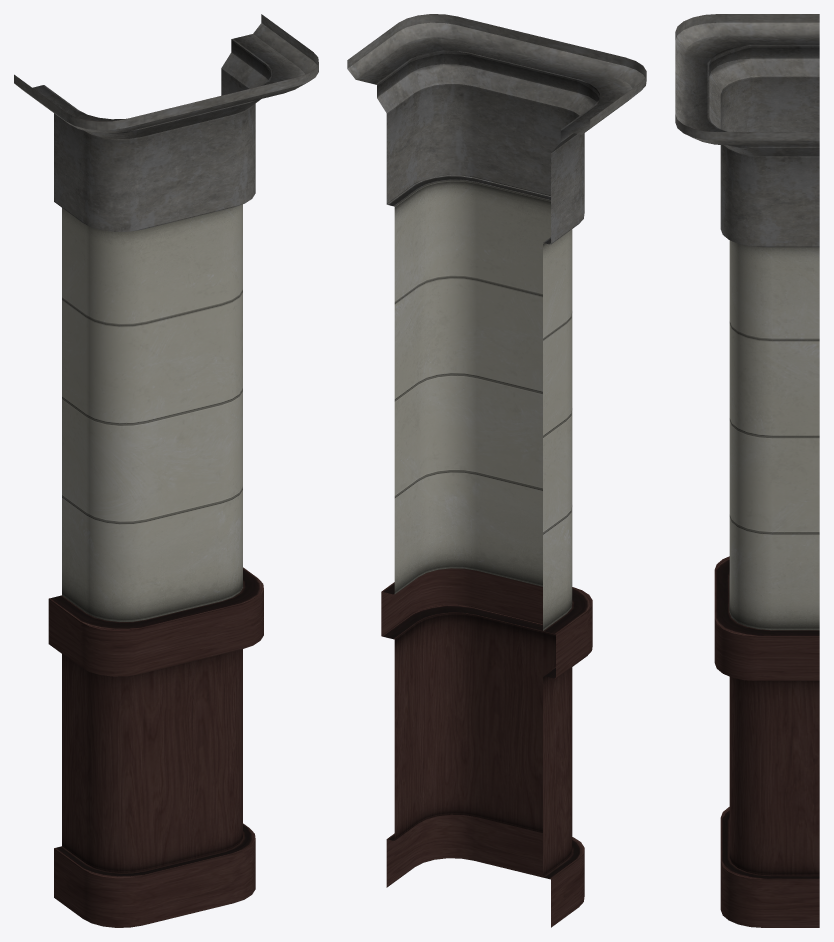
The model's file is Wall 6 Pillar 1.fbx.
The picture shows the model from 3 angles, left to right: view 1: azimuth 30°, elevation 25°; view 2: azimuth 150°, elevation 25°; view 3: azimuth 270°, elevation 25°; orthographic projection. The views are drawn at different scales.
Parts seen in each view (by area): view 1: Wall_6_Pillar_1; view 2: Wall_6_Pillar_1; view 3: Wall_6_Pillar_1.
Boxes of the visible parts, x1,y1,x2,y2 form: Wall_6_Pillar_1: [14, 14, 318, 927]; Wall_6_Pillar_1: [347, 14, 646, 927]; Wall_6_Pillar_1: [675, 14, 819, 927].
Bounding box in the file's own units: 93.24 × 300 × 48.12.
